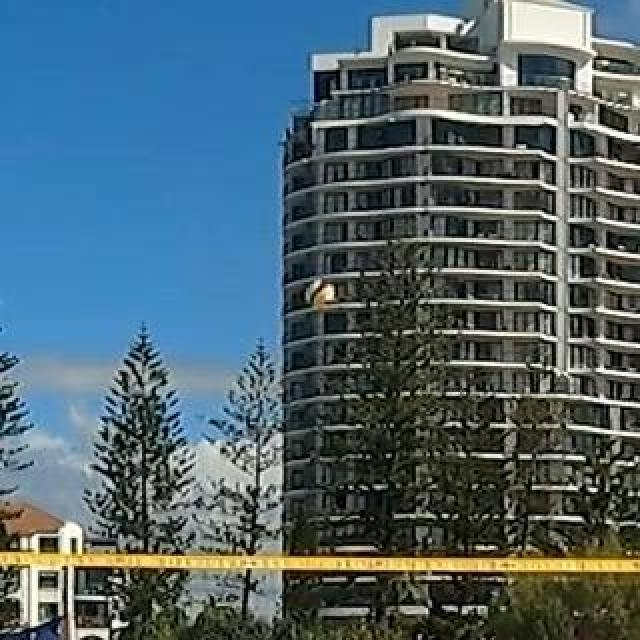volleyball: (304, 280, 336, 310)
